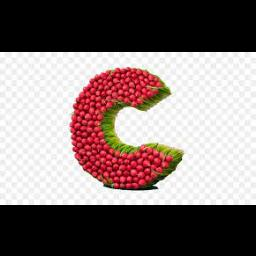c: (58, 60, 194, 192)
